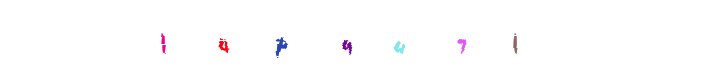4: (183, 0, 263, 80)
7: (351, 0, 431, 80)
9: (322, 0, 402, 80)
L: (134, 0, 214, 80), (371, 0, 451, 80)
P: (240, 0, 320, 80)
U: (341, 0, 421, 80)
